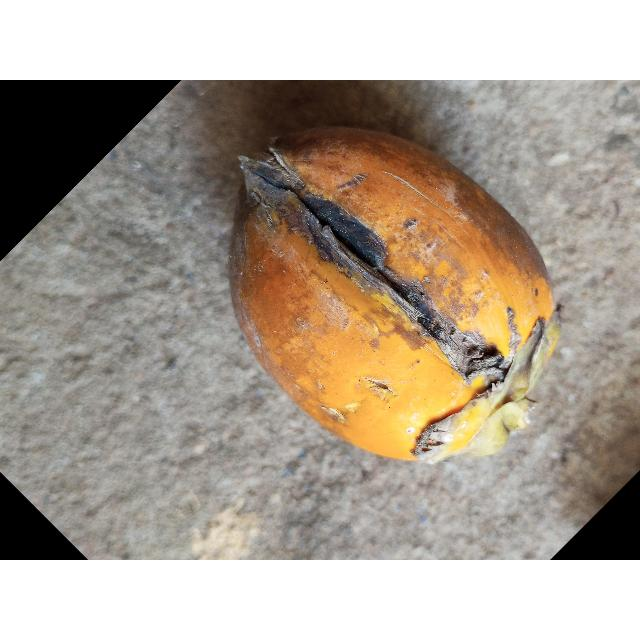damaged: (226, 126, 560, 466)
